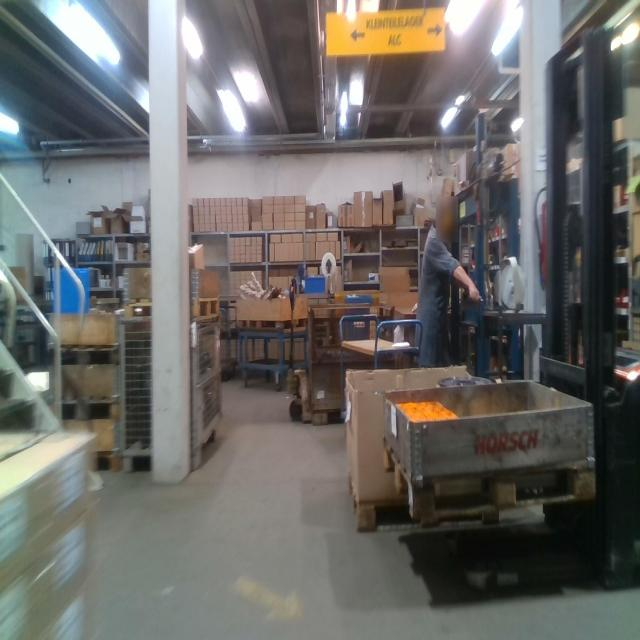pallet: (383, 443, 599, 521), (343, 467, 482, 530), (45, 391, 121, 422), (49, 340, 118, 367), (84, 446, 121, 482), (240, 317, 304, 335), (192, 299, 219, 320), (122, 298, 152, 316)
pallet_truck: (532, 15, 640, 581), (282, 269, 320, 421)
stillage: (309, 304, 380, 426), (190, 328, 221, 468), (124, 320, 151, 471)
